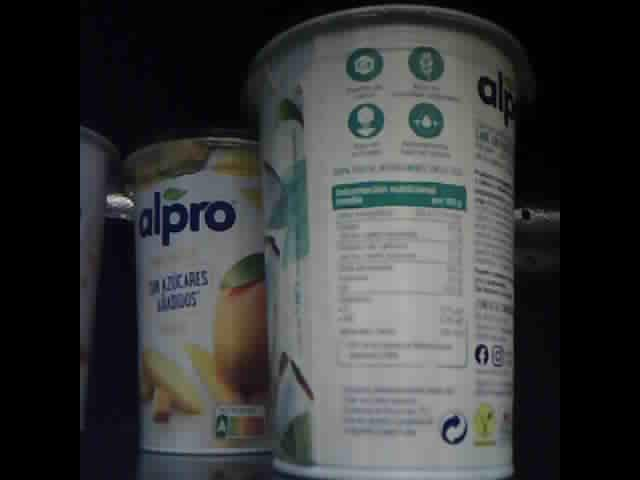alpro: (239, 2, 531, 479), (123, 122, 274, 458), (81, 121, 120, 432)
